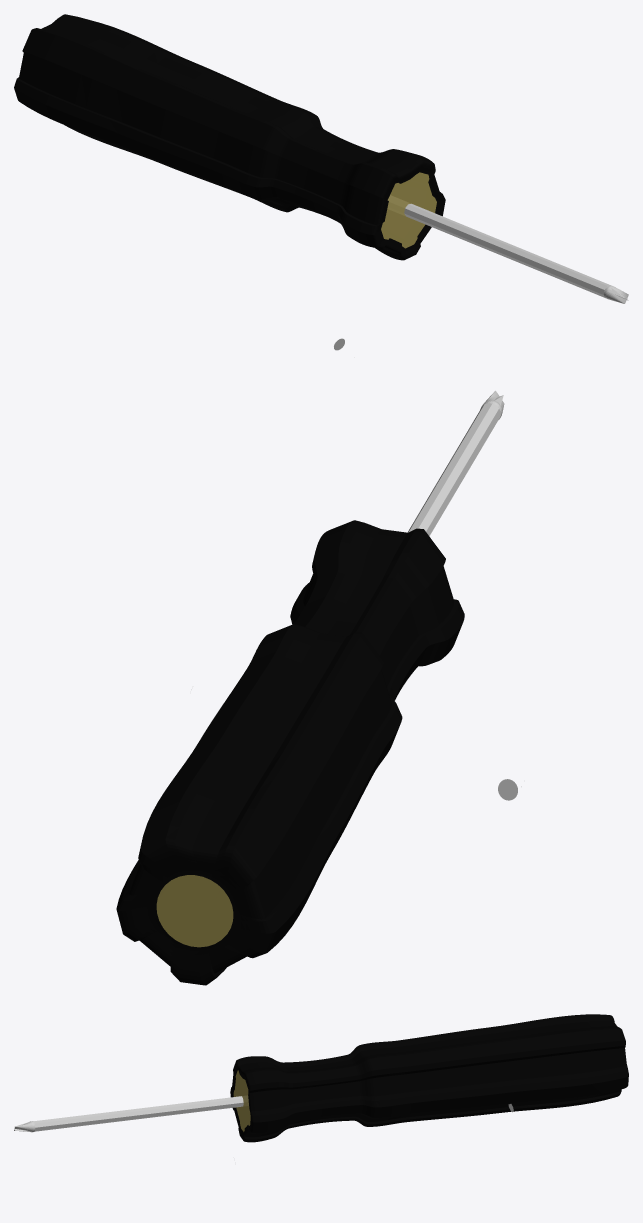
File: screwDriver.fbx
The picture shows the model from 3 angles, top to bottom: view 1: azimuth 30°, elevation 25°; view 2: azimuth 150°, elevation 25°; view 3: azimuth 270°, elevation 25°; orthographic projection. The views are drawn at different scales.
Visible parts, largest first — view 1: Handle, Tip1, Cap_11; view 2: Handle, Cap_21, Tip1; view 3: Handle, Tip1, Cap_11.
Part boxes in pixels (left/top/right/bottom): Handle: left=14, top=14, right=445, bottom=260; Tip1: left=404, top=203, right=628, bottom=300; Cap_11: left=381, top=172, right=436, bottom=248; Handle: left=116, top=520, right=464, bottom=985; Cap_21: left=156, top=875, right=233, bottom=947; Tip1: left=407, top=395, right=503, bottom=535; Handle: left=230, top=1014, right=628, bottom=1142; Tip1: left=14, top=1096, right=243, bottom=1131; Cap_11: left=233, top=1070, right=250, bottom=1131.
Bounding box in the file's own units: 0.0938 × 0.0556 × 0.2341.
